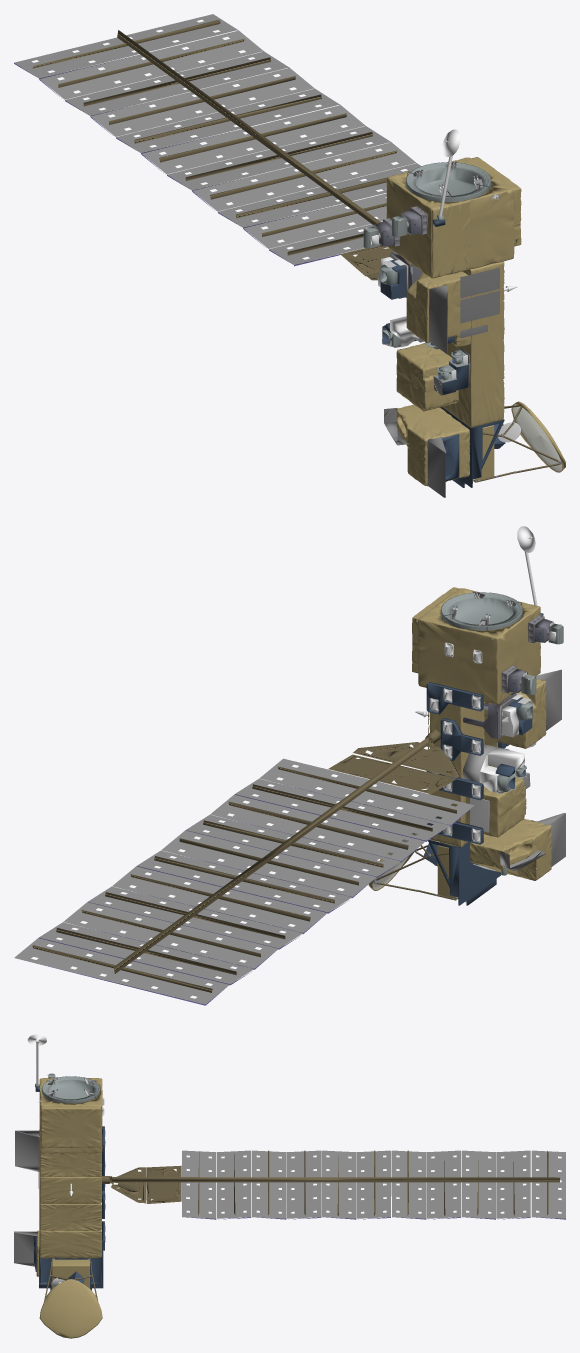
The model's file is aqua.glb.
3 views of the same model, one above another, from view 1: azimuth 30°, elevation 25°; view 2: azimuth 150°, elevation 25°; view 3: azimuth 270°, elevation 25° (orthographic). The views are drawn at different scales.
Visible parts, largest first — view 1: Aqua_Reduced_v0014 [Aqua_Layered_02 [Layer2]], Aqua_Reduced_v0014 [Aqua_Layered_02 [Layer3]], Aqua_Reduced_v0014 [Aqua_Layered_02 [Layer22]], Aqua_Reduced_v0014 [Aqua_Layered_02 [(unnamed)]], Aqua_Reduced_v0014 [Aqua_Layered_02 [Layer10]], Aqua_Reduced_v0014 [Aqua_Layered_02 [Layer9]], Aqua_Reduced_v0014 [Aqua_Layered_02 [Layer19]], Aqua_Reduced_v0014 [Aqua_Layered_02 [Layer20]], Aqua_Reduced_v0014 [Aqua_Layered_02 [Layer21]], Aqua_Reduced_v0014 [Aqua_Layered_02 [Layer14]], Aqua_Reduced_v0014 [Aqua_Layered_02 [Layer18]], Aqua_Reduced_v0014 [Aqua_Layered_02 [Layer16]] (+4 smaller); view 2: Aqua_Reduced_v0014 [Aqua_Layered_02 [Layer2]], Aqua_Reduced_v0014 [Aqua_Layered_02 [Layer3]], Aqua_Reduced_v0014 [Aqua_Layered_02 [Layer22]], Aqua_Reduced_v0014 [Aqua_Layered_02 [Layer9]], Aqua_Reduced_v0014 [Aqua_Layered_02 [Layer10]], Aqua_Reduced_v0014 [Aqua_Layered_02 [Layer19]], Aqua_Reduced_v0014 [Aqua_Layered_02 [Layer16]], Aqua_Reduced_v0014 [Aqua_Layered_02 [Layer4]], Aqua_Reduced_v0014 [Aqua_Layered_02 [Layer14]], Aqua_Reduced_v0014 [Aqua_Layered_02 [Layer17]], Aqua_Reduced_v0014 [Aqua_Layered_02 [(unnamed)]], Aqua_Reduced_v0014 [Aqua_Layered_02 [Layer20]] (+3 smaller); view 3: Aqua_Reduced_v0014 [Aqua_Layered_02 [Layer2]], Aqua_Reduced_v0014 [Aqua_Layered_02 [Layer23]], Aqua_Reduced_v0014 [Aqua_Layered_02 [Layer3]], Aqua_Reduced_v0014 [Aqua_Layered_02 [Layer22]], Aqua_Reduced_v0014 [Layer26], Aqua_Reduced_v0014 [Aqua_Layered_02 [Layer14]], Aqua_Reduced_v0014 [Aqua_Layered_02 [Layer9]], Aqua_Reduced_v0014 [Aqua_Layered_02 [Layer10]], Aqua_Reduced_v0014 [Layer24], Aqua_Reduced_v0014 [Aqua_Layered_02 [Layer16]], Aqua_Reduced_v0014 [Aqua_Layered_02 [(unnamed)]], Aqua_Reduced_v0014 [Aqua_Layered_02 [Layer4]].
Boxes of the visible parts, left/top/right/bottom form: Aqua_Reduced_v0014 [Aqua_Layered_02 [Layer2]]: left=14, top=14, right=421, bottom=264; Aqua_Reduced_v0014 [Aqua_Layered_02 [Layer3]]: left=32, top=20, right=422, bottom=280; Aqua_Reduced_v0014 [Aqua_Layered_02 [Layer22]]: left=386, top=157, right=521, bottom=278; Aqua_Reduced_v0014 [Aqua_Layered_02 [(unnamed)]]: left=429, top=262, right=503, bottom=427; Aqua_Reduced_v0014 [Aqua_Layered_02 [Layer10]]: left=363, top=162, right=490, bottom=483; Aqua_Reduced_v0014 [Aqua_Layered_02 [Layer9]]: left=380, top=172, right=505, bottom=487; Aqua_Reduced_v0014 [Aqua_Layered_02 [Layer19]]: left=396, top=404, right=469, bottom=486; Aqua_Reduced_v0014 [Aqua_Layered_02 [Layer20]]: left=396, top=343, right=458, bottom=411; Aqua_Reduced_v0014 [Aqua_Layered_02 [Layer21]]: left=406, top=271, right=471, bottom=346; Aqua_Reduced_v0014 [Aqua_Layered_02 [Layer14]]: left=384, top=285, right=447, bottom=497; Aqua_Reduced_v0014 [Aqua_Layered_02 [Layer18]]: left=460, top=267, right=499, bottom=338; Aqua_Reduced_v0014 [Aqua_Layered_02 [Layer16]]: left=371, top=129, right=521, bottom=442; Aqua_Reduced_v0014 [Aqua_Layered_02 [Layer2]]: left=14, top=758, right=474, bottom=1004; Aqua_Reduced_v0014 [Aqua_Layered_02 [Layer3]]: left=32, top=729, right=461, bottom=992; Aqua_Reduced_v0014 [Aqua_Layered_02 [Layer22]]: left=412, top=587, right=540, bottom=704; Aqua_Reduced_v0014 [Aqua_Layered_02 [Layer9]]: left=423, top=602, right=545, bottom=905; Aqua_Reduced_v0014 [Aqua_Layered_02 [Layer10]]: left=441, top=592, right=563, bottom=901; Aqua_Reduced_v0014 [Aqua_Layered_02 [Layer19]]: left=469, top=819, right=551, bottom=880; Aqua_Reduced_v0014 [Aqua_Layered_02 [Layer16]]: left=415, top=526, right=556, bottom=842; Aqua_Reduced_v0014 [Aqua_Layered_02 [Layer4]]: left=36, top=783, right=471, bottom=1005; Aqua_Reduced_v0014 [Aqua_Layered_02 [Layer14]]: left=500, top=669, right=565, bottom=871; Aqua_Reduced_v0014 [Aqua_Layered_02 [Layer17]]: left=430, top=621, right=561, bottom=871; Aqua_Reduced_v0014 [Aqua_Layered_02 [(unnamed)]]: left=430, top=702, right=494, bottom=847; Aqua_Reduced_v0014 [Aqua_Layered_02 [Layer20]]: left=465, top=777, right=526, bottom=837; Aqua_Reduced_v0014 [Aqua_Layered_02 [Layer2]]: left=182, top=1150, right=565, bottom=1218; Aqua_Reduced_v0014 [Aqua_Layered_02 [Layer23]]: left=40, top=1150, right=101, bottom=1257; Aqua_Reduced_v0014 [Aqua_Layered_02 [Layer3]]: left=101, top=1150, right=559, bottom=1215; Aqua_Reduced_v0014 [Aqua_Layered_02 [Layer22]]: left=39, top=1078, right=102, bottom=1153; Aqua_Reduced_v0014 [Layer26]: left=39, top=1279, right=102, bottom=1338; Aqua_Reduced_v0014 [Aqua_Layered_02 [Layer14]]: left=14, top=1130, right=39, bottom=1266; Aqua_Reduced_v0014 [Aqua_Layered_02 [Layer9]]: left=33, top=1080, right=104, bottom=1290; Aqua_Reduced_v0014 [Aqua_Layered_02 [Layer10]]: left=35, top=1073, right=100, bottom=1261; Aqua_Reduced_v0014 [Layer24]: left=52, top=1259, right=89, bottom=1288; Aqua_Reduced_v0014 [Aqua_Layered_02 [Layer16]]: left=27, top=1034, right=88, bottom=1287; Aqua_Reduced_v0014 [Aqua_Layered_02 [(unnamed)]]: left=39, top=1139, right=100, bottom=1258; Aqua_Reduced_v0014 [Aqua_Layered_02 [Layer4]]: left=186, top=1151, right=565, bottom=1219.
Size of the model in its own units: 4.77 by 8.83 by 16.7.
